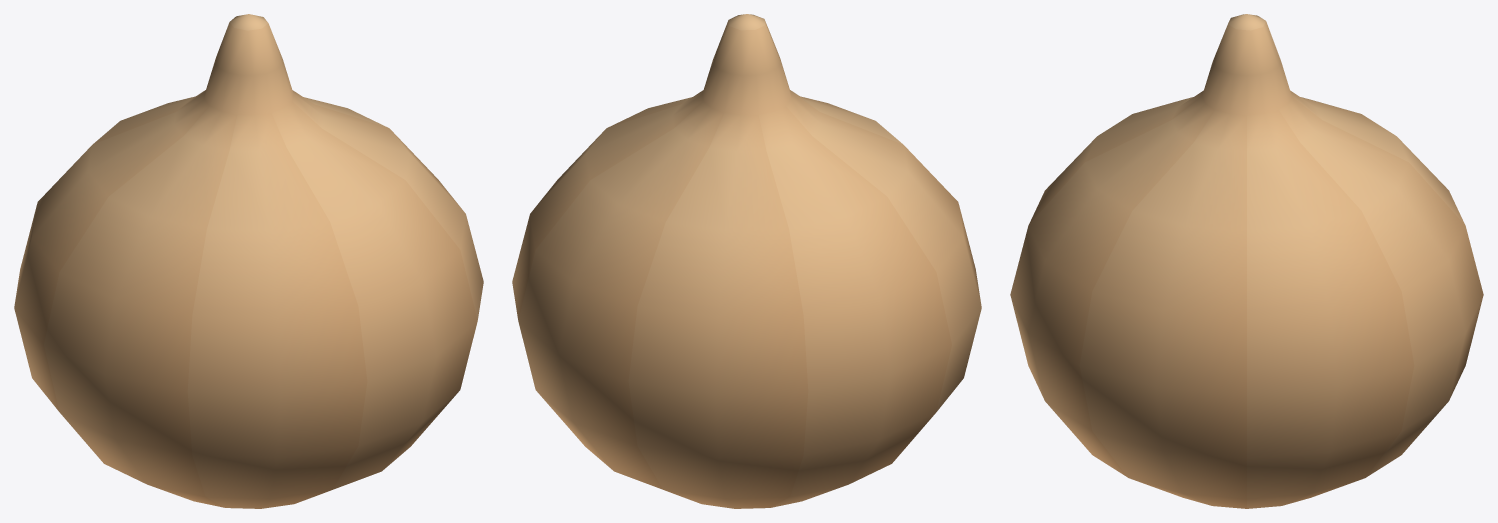
Rendered from kay-food_ingredient_onion.glb.
3 views of the same model, side by side, from view 1: azimuth 30°, elevation 25°; view 2: azimuth 150°, elevation 25°; view 3: azimuth 270°, elevation 25° (orthographic).
Parts seen in each view (by area): view 1: food_ingredient_onion; view 2: food_ingredient_onion; view 3: food_ingredient_onion.
Boxes of the visible parts, left/top/right/bottom form: food_ingredient_onion: left=14, top=14, right=483, bottom=508; food_ingredient_onion: left=512, top=14, right=981, bottom=508; food_ingredient_onion: left=1010, top=14, right=1483, bottom=508.
Size of the model in its own units: 0.1913 by 0.22 by 0.1913.
1 material, 1 textured.
